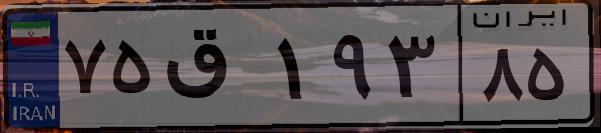1: (270, 28, 330, 110)
3: (385, 28, 445, 110)
5: (525, 38, 570, 115), (110, 28, 158, 98)
7: (57, 26, 110, 100)
8: (475, 38, 525, 113)
9: (330, 28, 385, 110)
ق: (158, 20, 270, 120)
